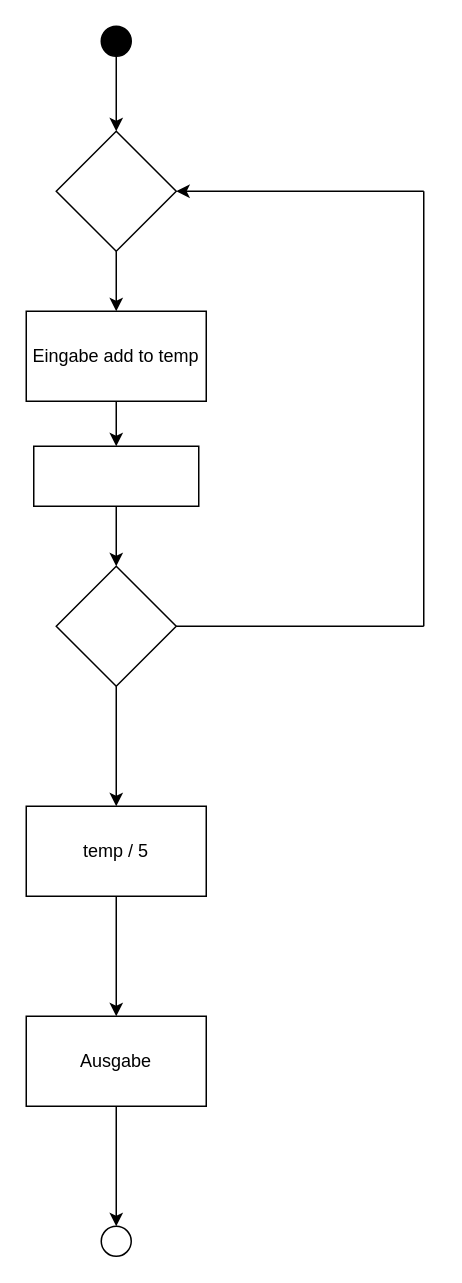
Image size: 462x1283. Some labels were removed from this diagram. Each missing label, with the centre of its shape:
"i < anzahl" goes at (115,625).
"i++" goes at (115,475).
